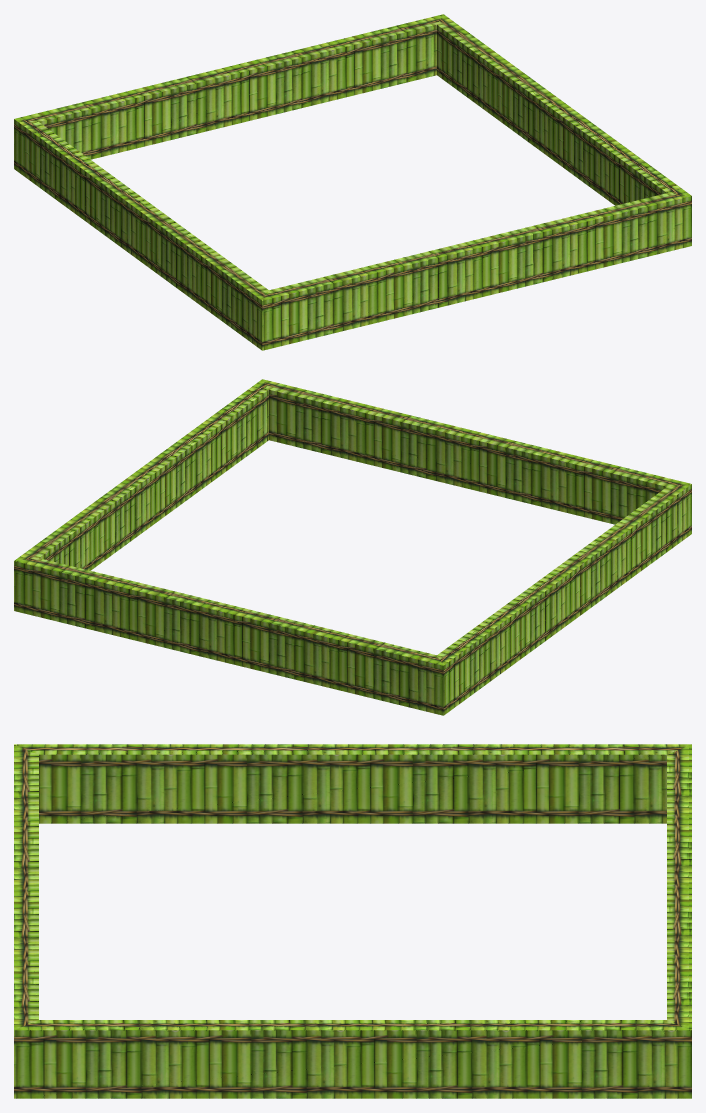
The model's file is Bamboo Wall.FBX.
3 renders of one model, top to bottom at view 1: azimuth 30°, elevation 25°; view 2: azimuth 150°, elevation 25°; view 3: azimuth 270°, elevation 25°, orthographic. The views are drawn at different scales.
Parts seen in each view (by area): view 1: Bamboo Walls; view 2: Bamboo Walls; view 3: Bamboo Walls.
Part boxes in pixels (box(x1,y1,x2,y2)): Bamboo Walls: box(14, 14, 691, 350); Bamboo Walls: box(14, 379, 691, 715); Bamboo Walls: box(14, 744, 691, 1098).
Bounding box in the file's own units: 2696 × 303 × 2700.
